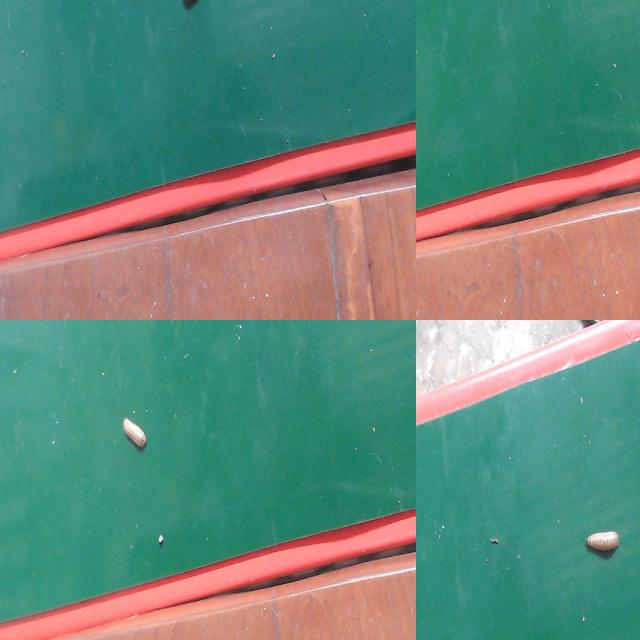Maggot: (584, 530, 621, 560), (120, 418, 148, 453)
